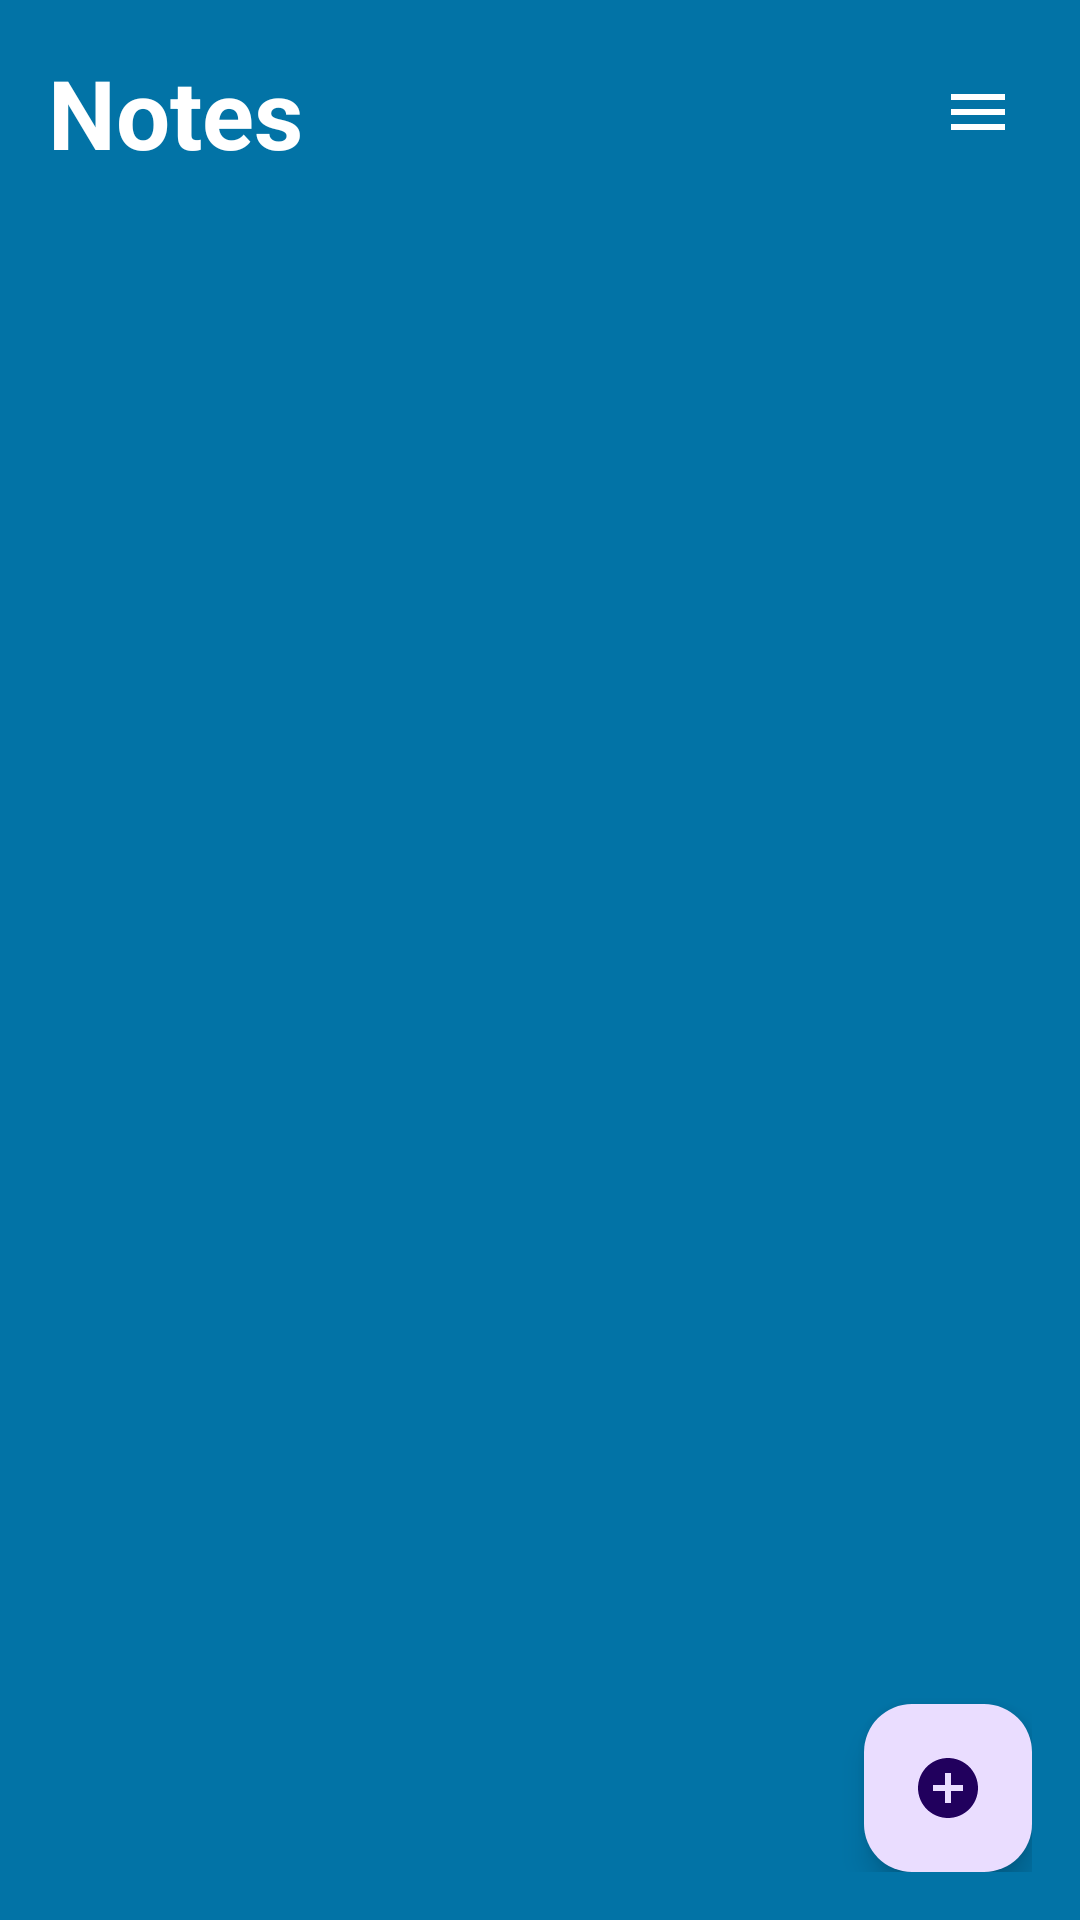

Screen size 1080x1920. Icon name, then its center in pixels as point (x, y):
add: point (948, 1788)
menu: point (978, 112)
